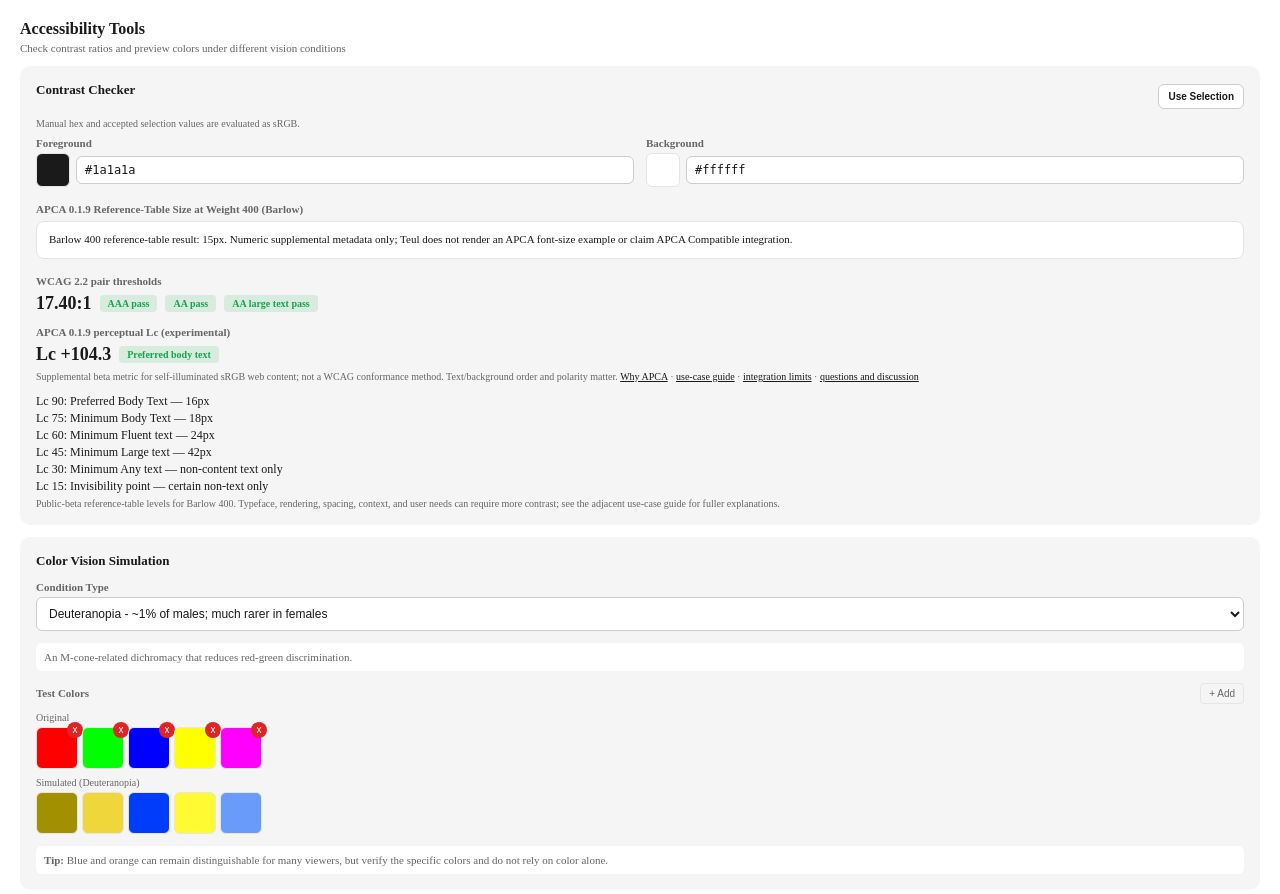
Test: AccessibilityTab › loads an exact supported text and background pair from the Figma selection
Click the button "Use Selection".
click(1201, 96)  # box [1158,84,1244,108]
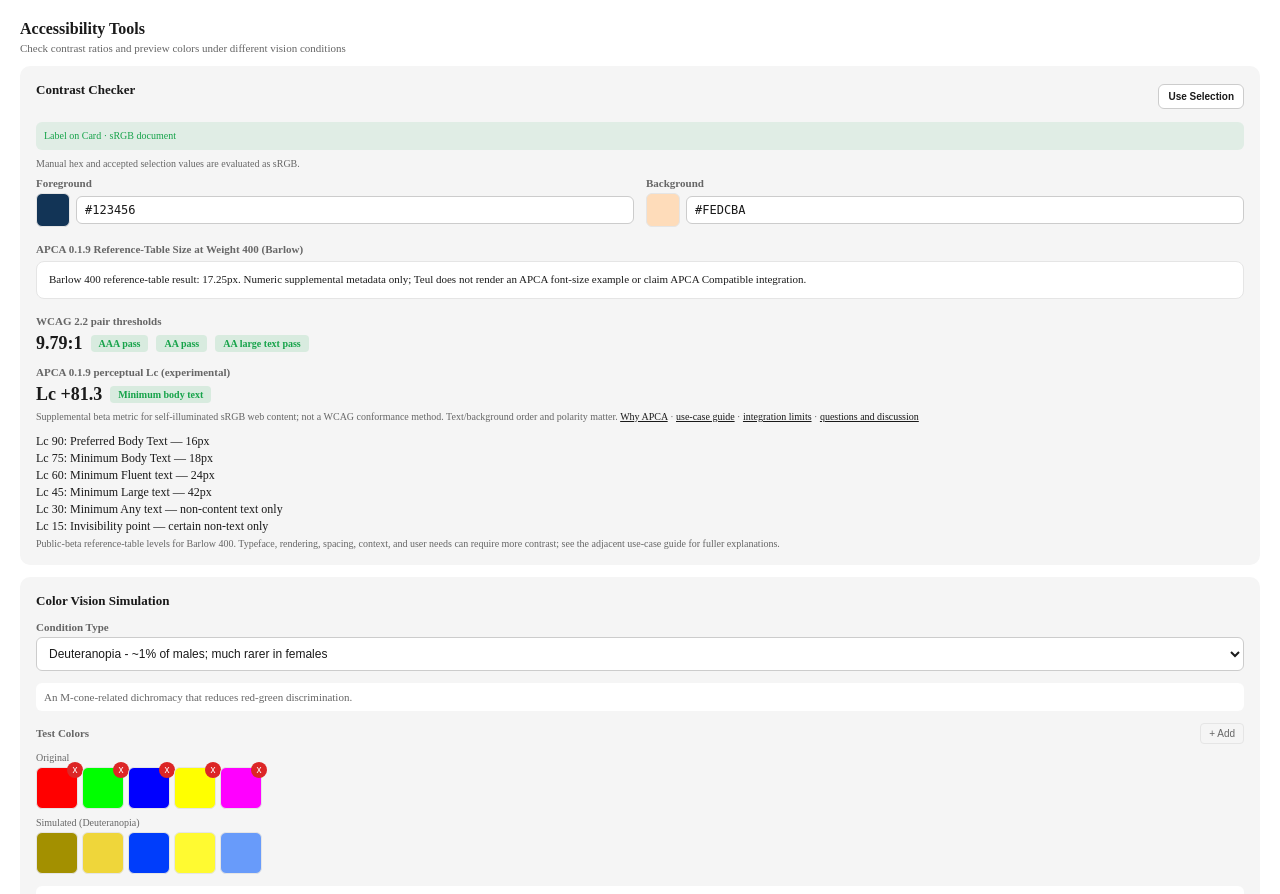
Check: the text "Manual hex and accepted selection values are evaluated as sRGB." is shown, box [36,158,300,169]
Check: the text "Label on Card · sRGB document" is shown, box [36,122,1244,150]
